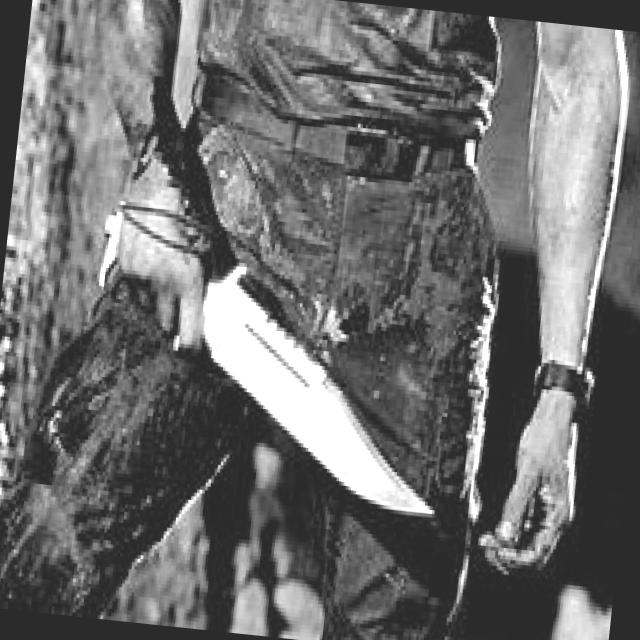knife: (70, 180, 472, 525)
